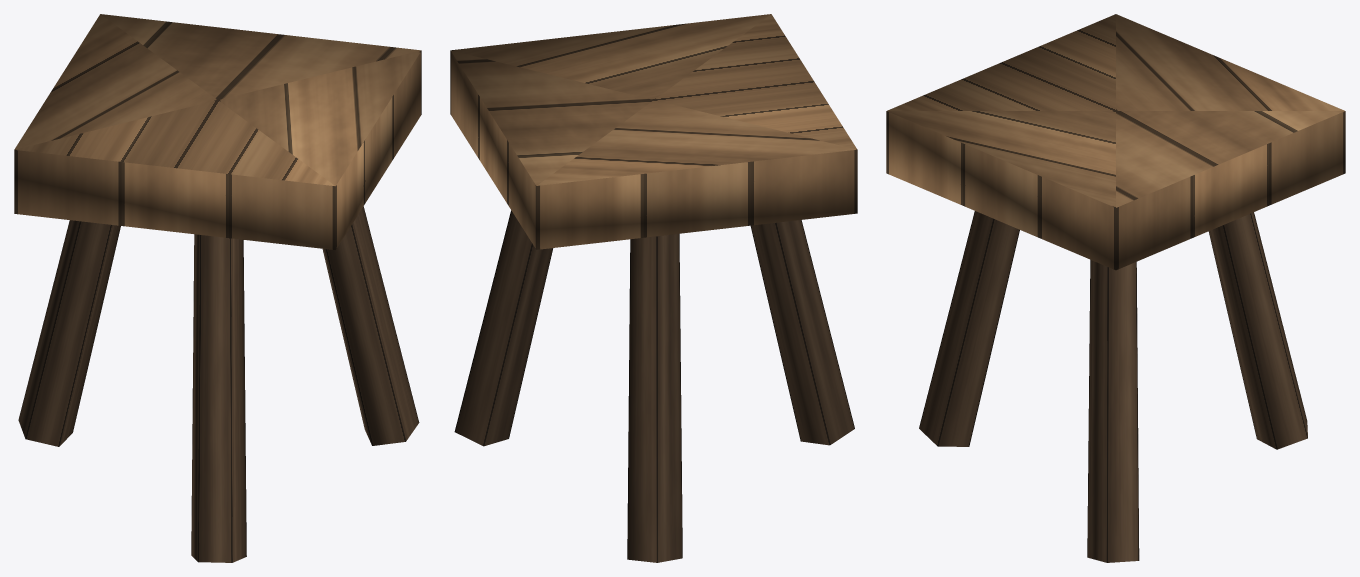
The model's file is Stool_Low_1_LOD2.gltf.
The picture shows the model from 3 angles, left to right: view 1: azimuth 30°, elevation 25°; view 2: azimuth 150°, elevation 25°; view 3: azimuth 270°, elevation 25°; orthographic projection. The views are drawn at different scales.
Visible parts, largest first — view 1: Stool_Low_1_LOD2; view 2: Stool_Low_1_LOD2; view 3: Stool_Low_1_LOD2.
Boxes of the visible parts, <box> form: Stool_Low_1_LOD2: <box>14,14,421,562</box>; Stool_Low_1_LOD2: <box>450,14,857,562</box>; Stool_Low_1_LOD2: <box>886,14,1345,562</box>.
Bounding box in the file's own units: 0.4 × 0.3558 × 0.4.
2 materials, 2 textured.
